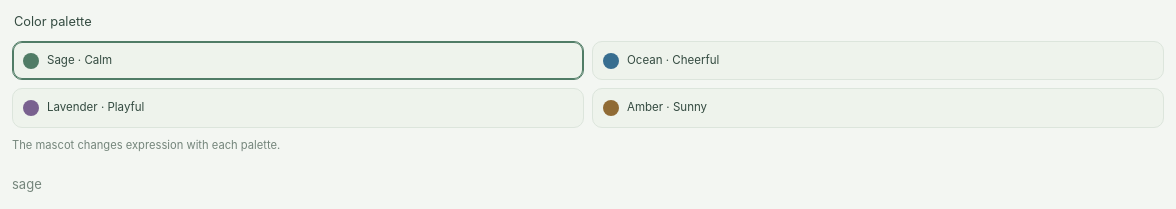
Test: switches and persists palettes while notifying other mounted views
The image size is (1176, 209).
Click the button "Ocean · Cheerful": (673, 60) x1=592 y1=41 x2=1164 y2=80
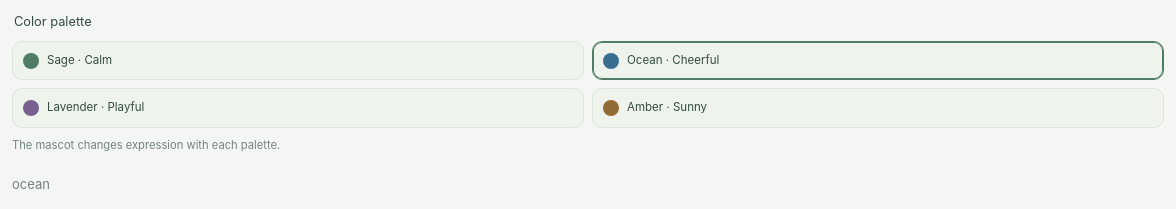
Expected: the text "Ocean" is shown, x1=627 y1=53 x2=719 y2=67
Result: the text with test id "palette" reads "ocean" at x1=12 y1=176 x2=50 y2=192
